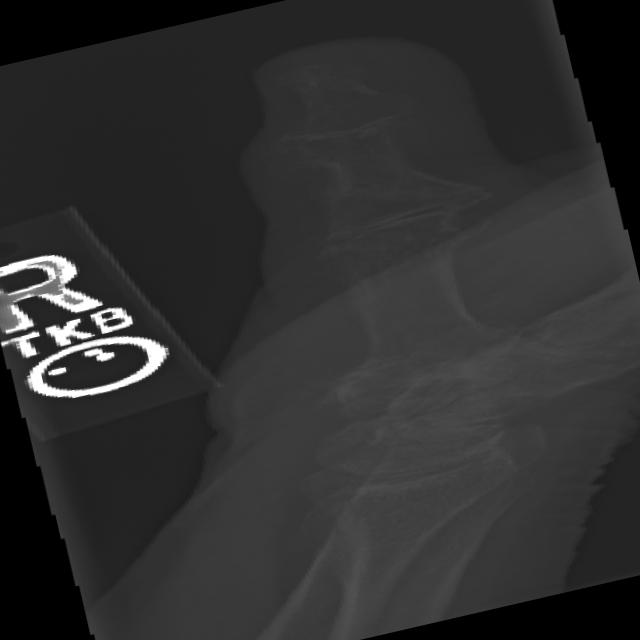fingers positive: (307, 166, 527, 211), (260, 52, 404, 100)
